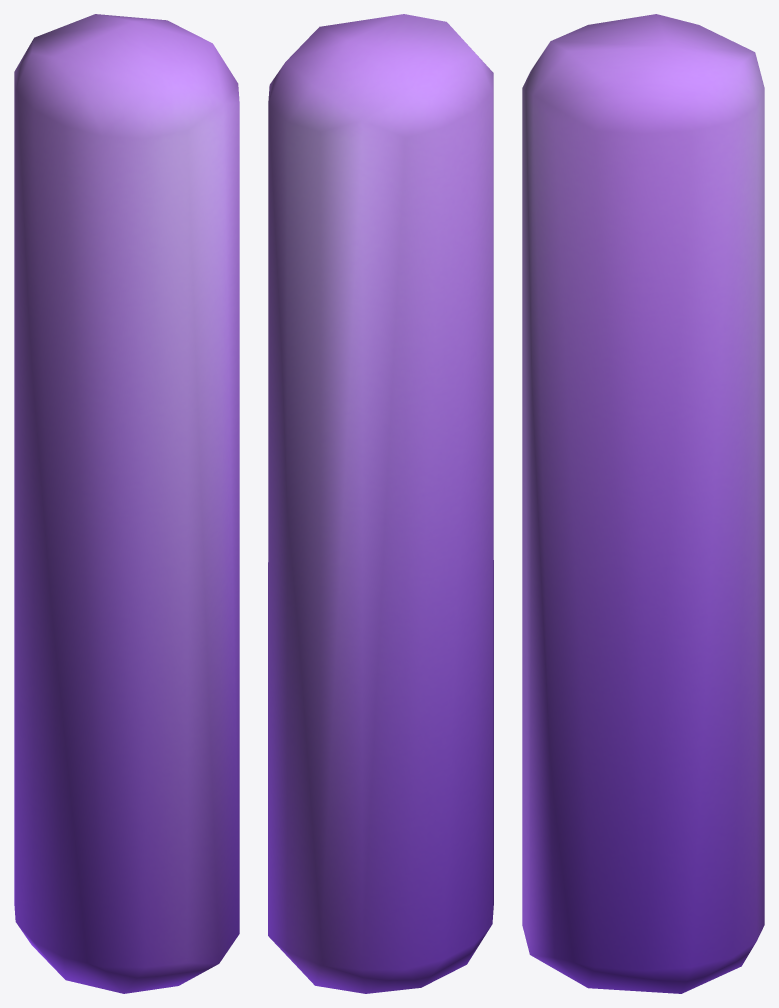
3 views of the same model, side by side, from view 1: azimuth 30°, elevation 25°; view 2: azimuth 150°, elevation 25°; view 3: azimuth 270°, elevation 25° (orthographic).
Visible parts, largest first — view 1: Processed_Mesh0_Geometry; view 2: Processed_Mesh0_Geometry; view 3: Processed_Mesh0_Geometry.
Boxes of the visible parts, x1,y1,x2,y2 form: Processed_Mesh0_Geometry: [14, 14, 239, 993]; Processed_Mesh0_Geometry: [268, 14, 493, 993]; Processed_Mesh0_Geometry: [522, 14, 764, 993].
Size of what is drawn, in the model's own units: 0.0172 by 0.0825 by 0.0193.
Materials: 1 (1 with a texture image).
